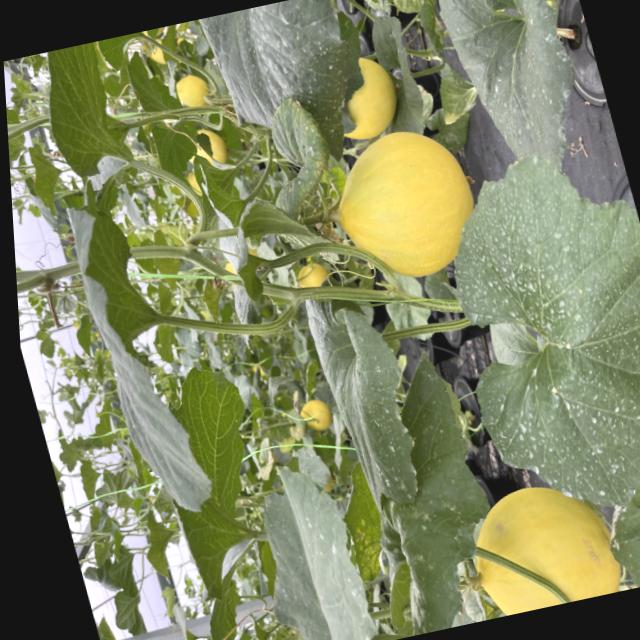alternaria leaf blight: (245, 89, 345, 215)
downy mildew: (411, 133, 640, 532), (300, 288, 431, 518), (426, 0, 590, 174)
healthy: (29, 40, 134, 182)
powdery mildew: (579, 408, 640, 590)
